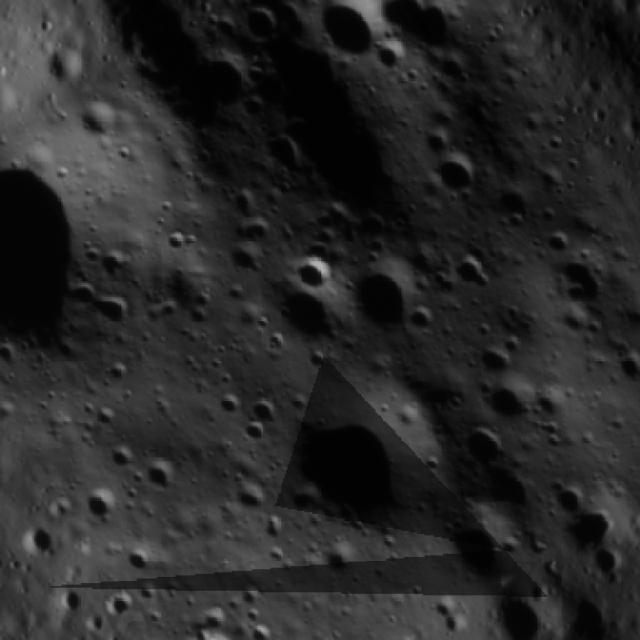crater: (0, 131, 148, 395), (250, 374, 442, 563), (131, 20, 263, 146), (257, 270, 355, 373), (338, 250, 429, 342), (368, 0, 474, 78), (434, 507, 521, 601), (298, 0, 407, 75), (467, 454, 550, 534), (547, 241, 624, 321), (441, 411, 516, 487), (466, 363, 540, 437), (422, 146, 487, 212), (444, 243, 504, 305), (232, 0, 294, 60), (69, 87, 129, 148), (77, 475, 135, 534), (396, 290, 453, 348), (519, 381, 576, 437), (535, 471, 593, 526), (155, 611, 262, 640), (135, 449, 191, 503), (284, 246, 338, 300), (222, 234, 275, 286), (241, 386, 294, 436), (225, 472, 278, 522), (368, 35, 418, 87), (536, 219, 586, 267), (116, 536, 159, 581), (210, 383, 252, 425), (418, 125, 459, 166), (102, 439, 138, 476), (611, 347, 640, 390), (244, 617, 278, 640), (631, 448, 640, 495)
